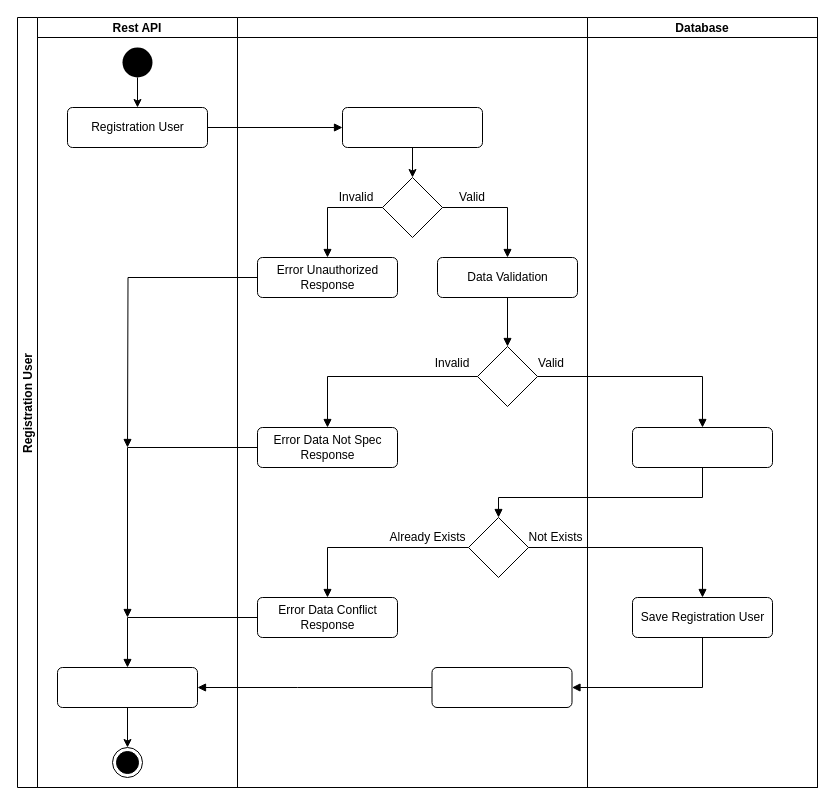
Some shapes in this 835 by 805 pixel diagram are drawn without their labels. Each missing label, with the box of its shape:
Display Response: (56, 666, 198, 708)
Email Validation: (632, 426, 772, 468)
Success Response: (431, 666, 572, 708)
Token Validation: (342, 106, 482, 148)
Web Service: (236, 16, 588, 788)
